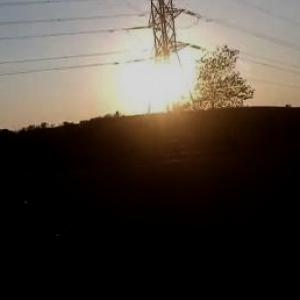follow: (1, 162, 76, 299)
